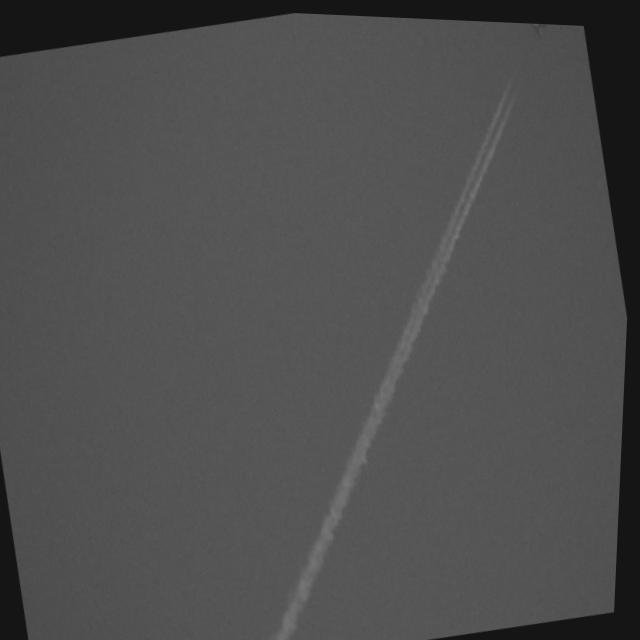aeroplane: (515, 18, 574, 47)
